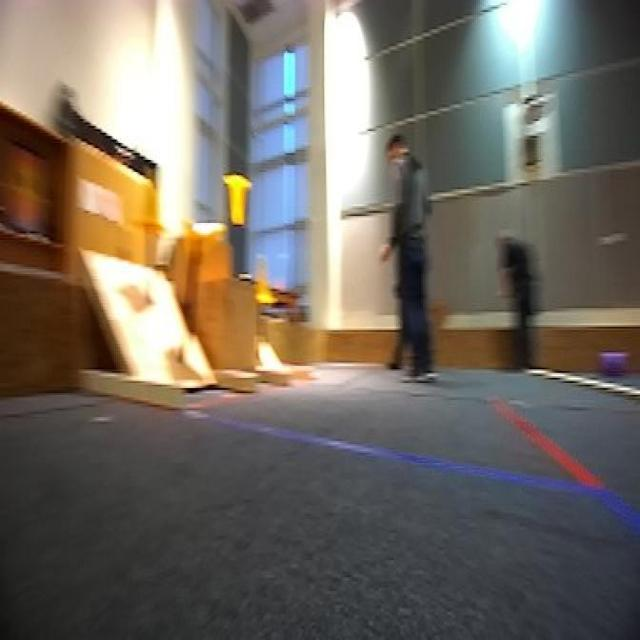frc_cone: (132, 167, 167, 235), (180, 218, 222, 269), (224, 177, 251, 235), (255, 255, 281, 310)
frc_cube: (604, 347, 622, 376)
